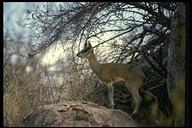antelope: (76, 41, 147, 118)
rock: (19, 101, 136, 125)
